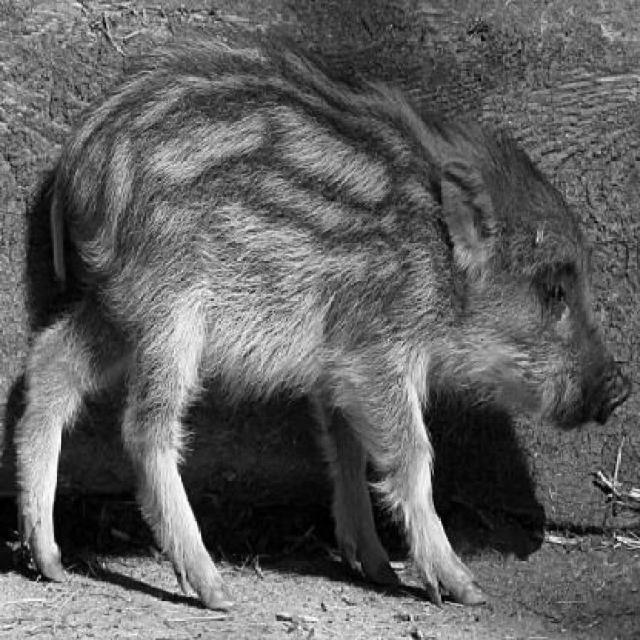Boar: (9, 23, 634, 608)
